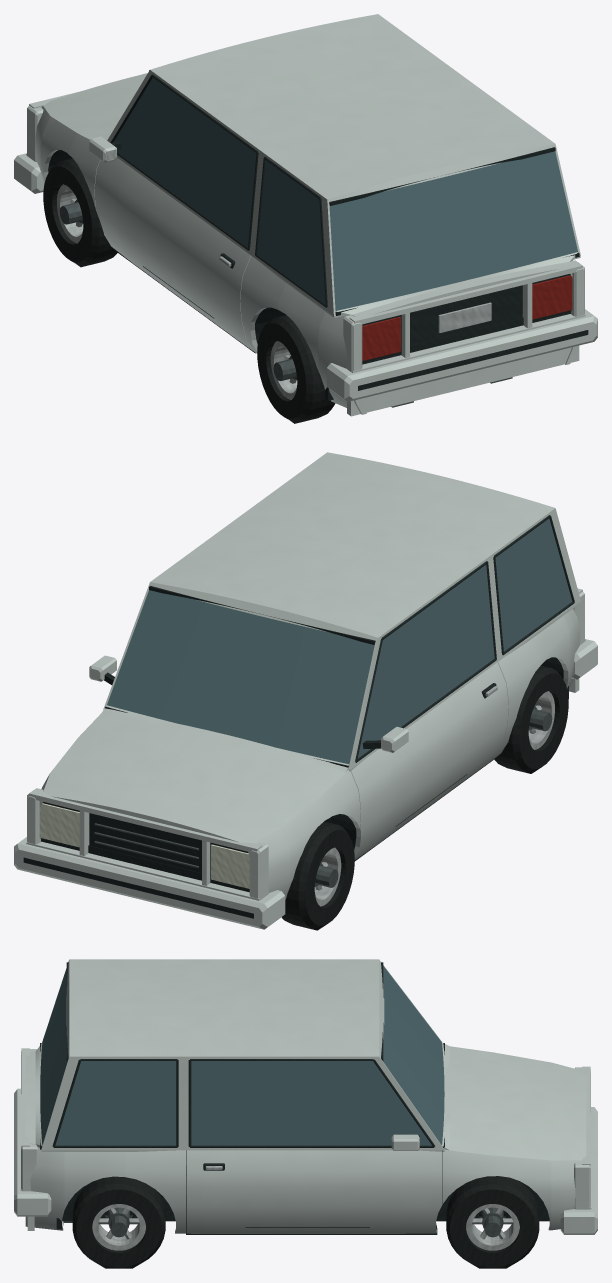
3 renders of one model, top to bottom at view 1: azimuth 30°, elevation 25°; view 2: azimuth 150°, elevation 25°; view 3: azimuth 270°, elevation 25°, orthographic. The views are drawn at different scales.
Visible parts, largest first — view 1: B028-03_roof_paint, B028-03_glazing_glass.001, B028-03_body_shell_paint.001, B028-03_door_leaf_paint_front_door-1, B028-03_glazing_glass_front_door-1, B028-03_body_shell_paint, B028-03_bumper_paint, B028-03_glazing_glass, B028-03_wheel_rubber_P-0.7400_-1.2000_0.3000, B028-03_body_shell_dark, B028-03_wheel_rubber_P-0.7400_1.2000_0.3000, B028-03_lamps_red (+7 smaller); view 2: B028-03_roof_paint, B028-03_body_shell_paint.001, B028-03_glazing_glass.001, B028-03_door_leaf_paint_front_door-1, B028-03_glazing_glass_front_door-1, B028-03_body_shell_paint, B028-03_bumper_paint, B028-03_glazing_glass, B028-03_wheel_rubber_P-0.7400_1.2000_0.3000, B028-03_body_shell_dark, B028-03_wheel_rubber_P-0.7400_-1.2000_0.3000, B028-03_lamps_lamp (+7 smaller); view 3: B028-03_roof_paint, B028-03_body_shell_paint.001, B028-03_door_leaf_paint_front_door1, B028-03_glazing_glass_front_door1, B028-03_body_shell_paint, B028-03_glazing_glass, B028-03_glazing_glass.001, B028-03_wheel_rubber_P0.7400_1.2000_0.3000, B028-03_wheel_rubber_P0.7400_-1.2000_0.3000, B028-03_bumper_paint, B028-03_trim_dark_front_door1, B028-03_wheel_alloy_P0.7400_-1.2000_0.3000 (+5 smaller).
Boxes of the visible parts, x1=… form: B028-03_roof_paint: x1=150, y1=14, x2=555, y2=199; B028-03_glazing_glass.001: x1=329, y1=151, x2=578, y2=310; B028-03_body_shell_paint.001: x1=26, y1=70, x2=585, y2=416; B028-03_door_leaf_paint_front_door-1: x1=94, y1=157, x2=253, y2=351; B028-03_glazing_glass_front_door-1: x1=114, y1=77, x2=256, y2=246; B028-03_body_shell_paint: x1=35, y1=106, x2=580, y2=414; B028-03_bumper_paint: x1=14, y1=153, x2=597, y2=401; B028-03_glazing_glass: x1=257, y1=160, x2=325, y2=303; B028-03_wheel_rubber_P-0.7400_-1.2000_0.3000: x1=257, y1=315, x2=335, y2=423; B028-03_body_shell_dark: x1=362, y1=285, x2=570, y2=364; B028-03_wheel_rubber_P-0.7400_1.2000_0.3000: x1=43, y1=158, x2=117, y2=267; B028-03_lamps_red: x1=362, y1=275, x2=572, y2=360; B028-03_roof_paint: x1=150, y1=452, x2=554, y2=637; B028-03_body_shell_paint.001: x1=26, y1=508, x2=585, y2=900; B028-03_glazing_glass.001: x1=107, y1=590, x2=374, y2=764; B028-03_door_leaf_paint_front_door-1: x1=350, y1=662, x2=508, y2=859; B028-03_glazing_glass_front_door-1: x1=357, y1=564, x2=494, y2=758; B028-03_body_shell_paint: x1=39, y1=601, x2=580, y2=899; B028-03_bumper_paint: x1=14, y1=639, x2=597, y2=929; B028-03_glazing_glass: x1=495, y1=518, x2=572, y2=651; B028-03_wheel_rubber_P-0.7400_1.2000_0.3000: x1=281, y1=821, x2=354, y2=930; B028-03_body_shell_dark: x1=41, y1=813, x2=249, y2=892; B028-03_wheel_rubber_P-0.7400_-1.2000_0.3000: x1=494, y1=665, x2=568, y2=773; B028-03_lamps_lamp: x1=39, y1=803, x2=249, y2=888; B028-03_roof_paint: x1=69, y1=959, x2=379, y2=1056; B028-03_body_shell_paint.001: x1=20, y1=960, x2=591, y2=1230; B028-03_door_leaf_paint_front_door1: x1=186, y1=1148, x2=442, y2=1233; B028-03_glazing_glass_front_door1: x1=191, y1=1061, x2=431, y2=1145; B028-03_body_shell_paint: x1=25, y1=1143, x2=581, y2=1233; B028-03_glazing_glass: x1=55, y1=1061, x2=176, y2=1145; B028-03_glazing_glass.001: x1=40, y1=966, x2=444, y2=1145; B028-03_wheel_rubber_P0.7400_1.2000_0.3000: x1=446, y1=1176, x2=539, y2=1268; B028-03_wheel_rubber_P0.7400_-1.2000_0.3000: x1=72, y1=1176, x2=165, y2=1268; B028-03_bumper_paint: x1=14, y1=1088, x2=597, y2=1234; B028-03_trim_dark_front_door1: x1=188, y1=1059, x2=435, y2=1170; B028-03_wheel_alloy_P0.7400_-1.2000_0.3000: x1=92, y1=1204, x2=145, y2=1250.
Size of the model in its own units: 1.98 by 1.49 by 3.75.
Materials: 9 (9 with a texture image).
